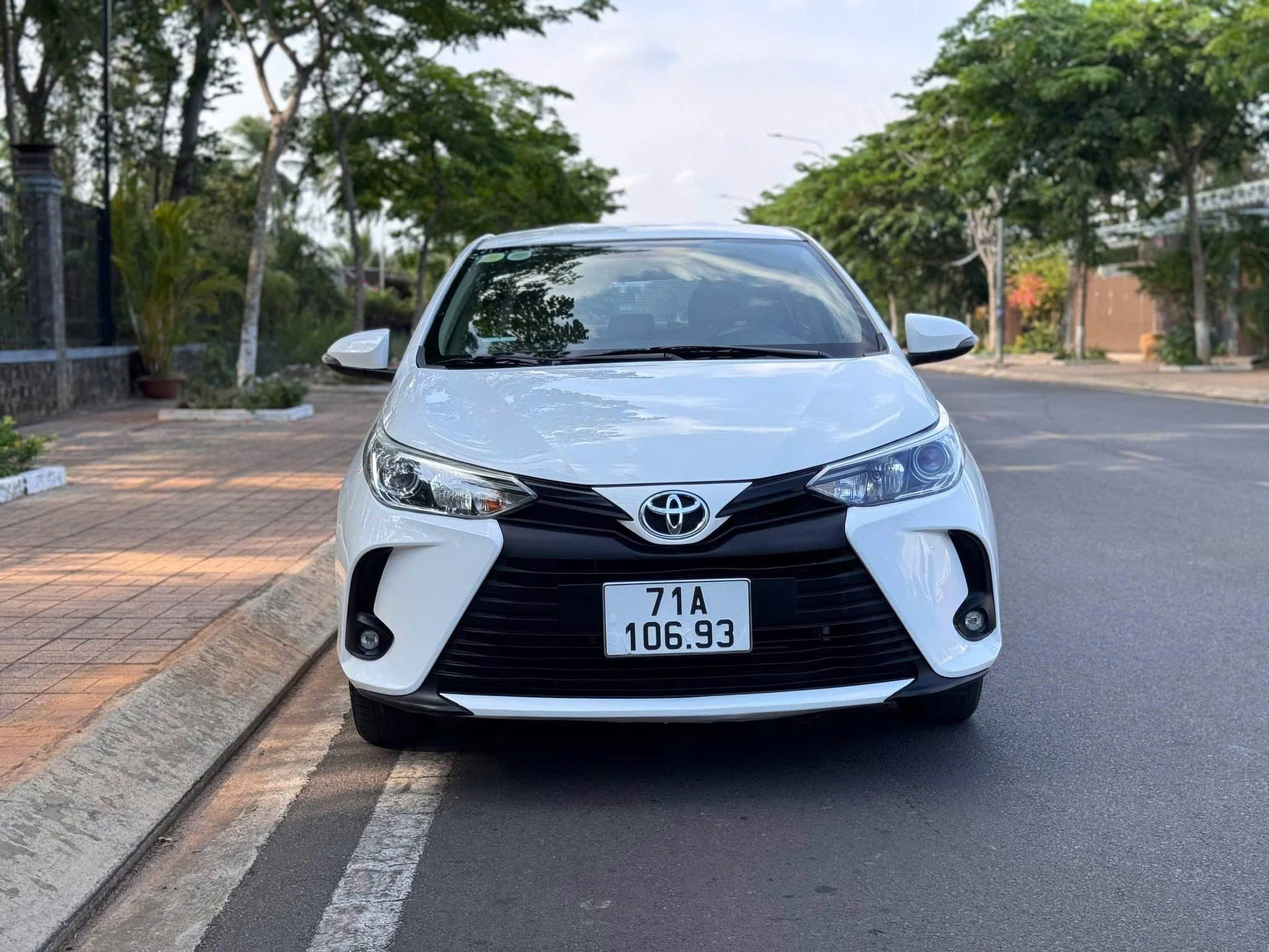Bien-so: (608, 581, 750, 655)
